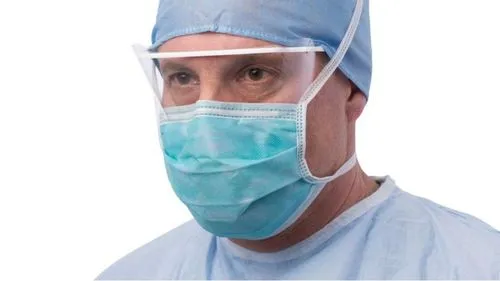withmask: (122, 2, 400, 249)
